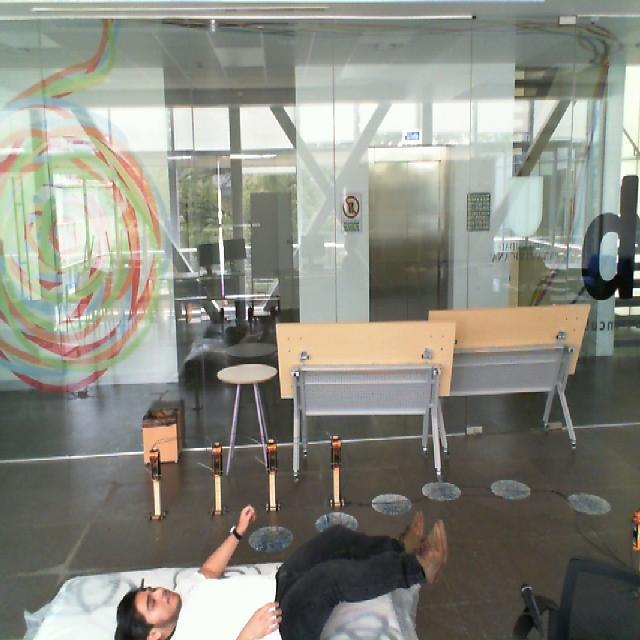fall detected: (108, 491, 464, 637)
